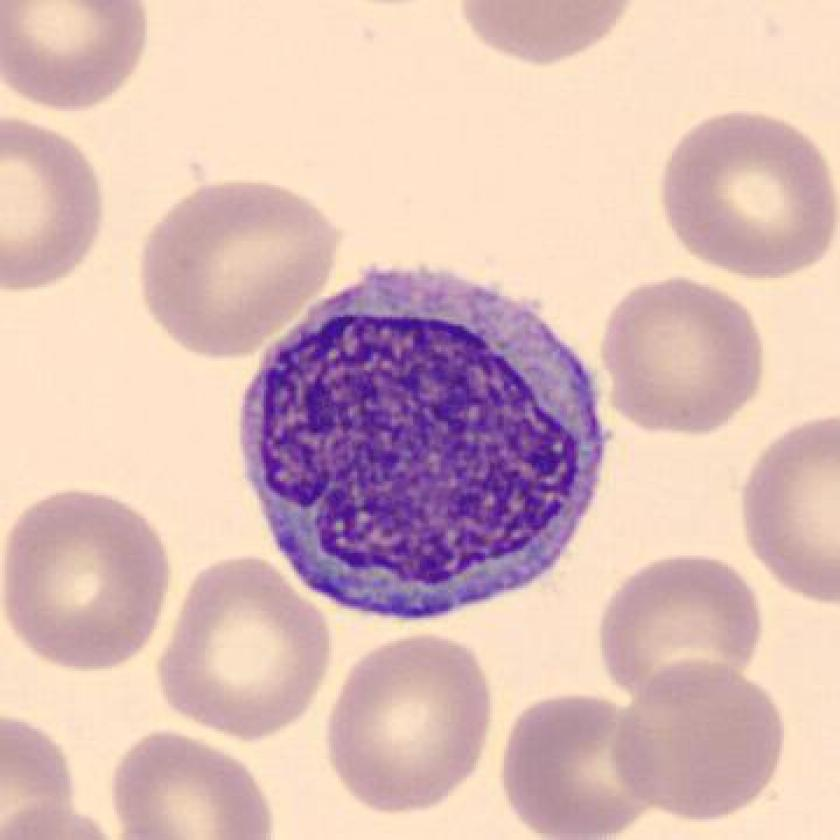monocyte: (218, 244, 626, 635)
